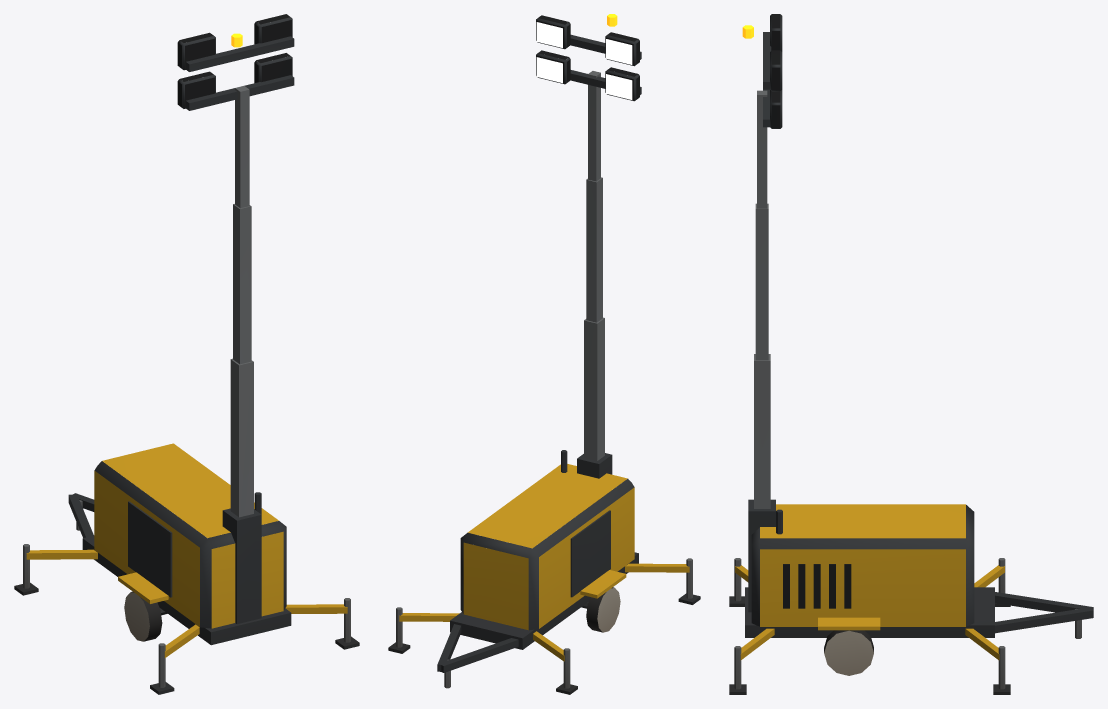
Rendered from floodlight_lod0.glb.
3 renders of one model, left to right at view 1: azimuth 30°, elevation 25°; view 2: azimuth 150°, elevation 25°; view 3: azimuth 270°, elevation 25°, orthographic. The views are drawn at different scales.
Visible parts, largest first — view 1: tower; view 2: tower, lamps; view 3: tower.
Part boxes in pixels (x1,y1,x2,y2): tower: (14, 14, 359, 694); tower: (388, 14, 700, 694); lamps: (536, 22, 632, 99); tower: (729, 14, 1093, 694).
Size of the model in its own units: 3.25 by 9.75 by 5.25.
